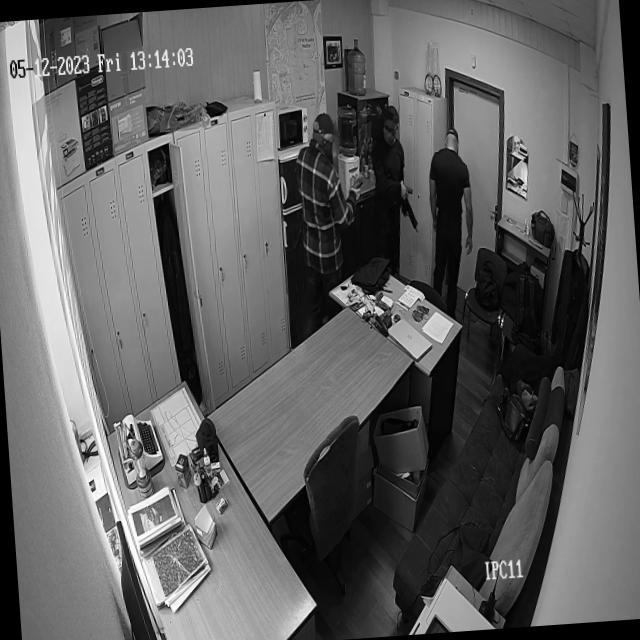gun: (402, 190, 421, 236)
person: (293, 111, 352, 313), (426, 130, 478, 308)
person with a gun: (368, 106, 412, 272)
